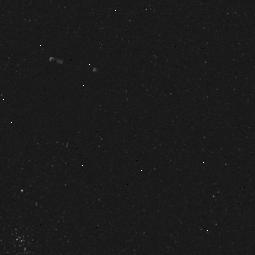proba_3_csc: (25, 45, 149, 132)
